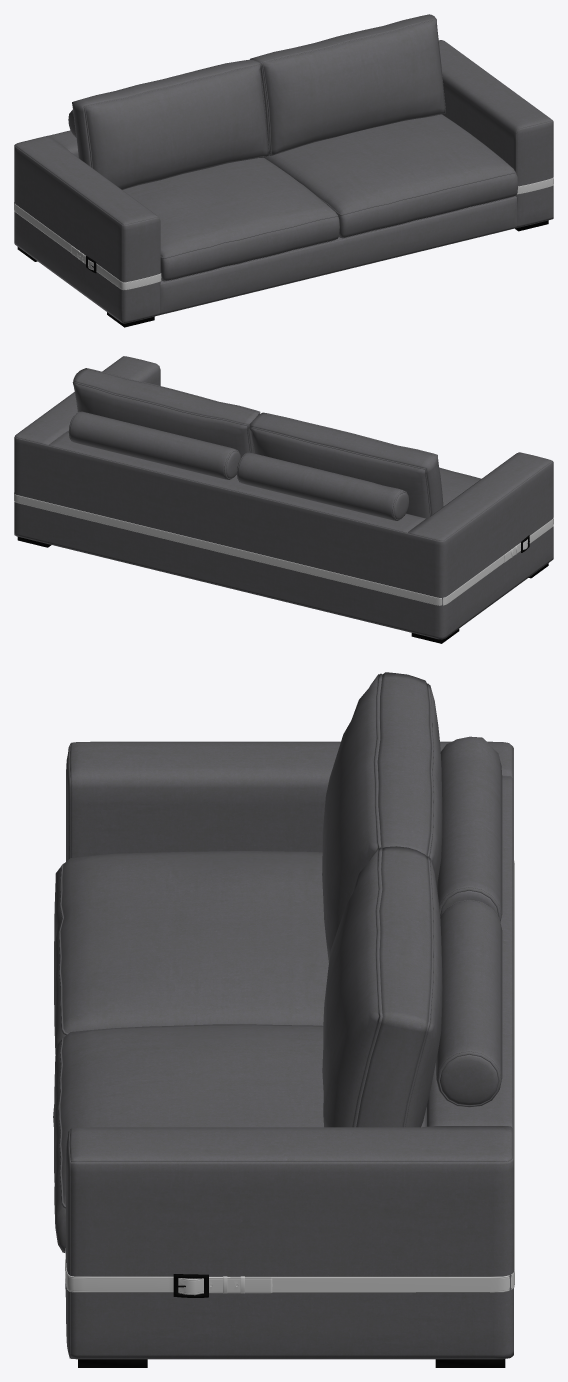
Rendered from sofablend5.glb.
3 renders of one model, top to bottom at view 1: azimuth 30°, elevation 25°; view 2: azimuth 150°, elevation 25°; view 3: azimuth 270°, elevation 25°, orthographic. The views are drawn at different scales.
Visible parts, largest first — view 1: Cube.004, Cube.005, Cube.010, Cube.003, Plane.003, Cube.009; view 2: Cube.004, Cylinder, Cube.010, Cube.003, Plane.003, Cube.005, Cube.009; view 3: Cube.004, Cube.005, Cube.003, Cylinder, Cube.010, Plane.003, Cube.009.
Part boxes in pixels (box(x1,y1,x2,y2)): Cube.004: box(14, 40, 553, 323); Cube.005: box(122, 114, 517, 281); Cube.010: box(72, 59, 268, 189); Cube.003: box(250, 14, 445, 155); Plane.003: box(14, 177, 553, 290); Cube.009: box(17, 220, 548, 327); Cube.004: box(14, 356, 553, 639); Cylinder: box(68, 411, 409, 520); Cube.010: box(249, 412, 443, 518); Cube.003: box(72, 368, 260, 457); Plane.003: box(14, 492, 553, 605); Cube.005: box(439, 467, 481, 506); Cube.009: box(17, 537, 548, 643); Cube.004: box(65, 741, 513, 1359); Cube.005: box(53, 851, 426, 1252); Cube.003: box(322, 846, 442, 1127); Cylinder: box(436, 736, 502, 1107); Cube.010: box(322, 672, 442, 962); Plane.003: box(65, 860, 514, 1295); Cube.009: box(78, 1359, 505, 1367).
Bounding box in the file's own units: 2.32 × 0.8021 × 1.06.
Materials: 3 (1 with a texture image).
